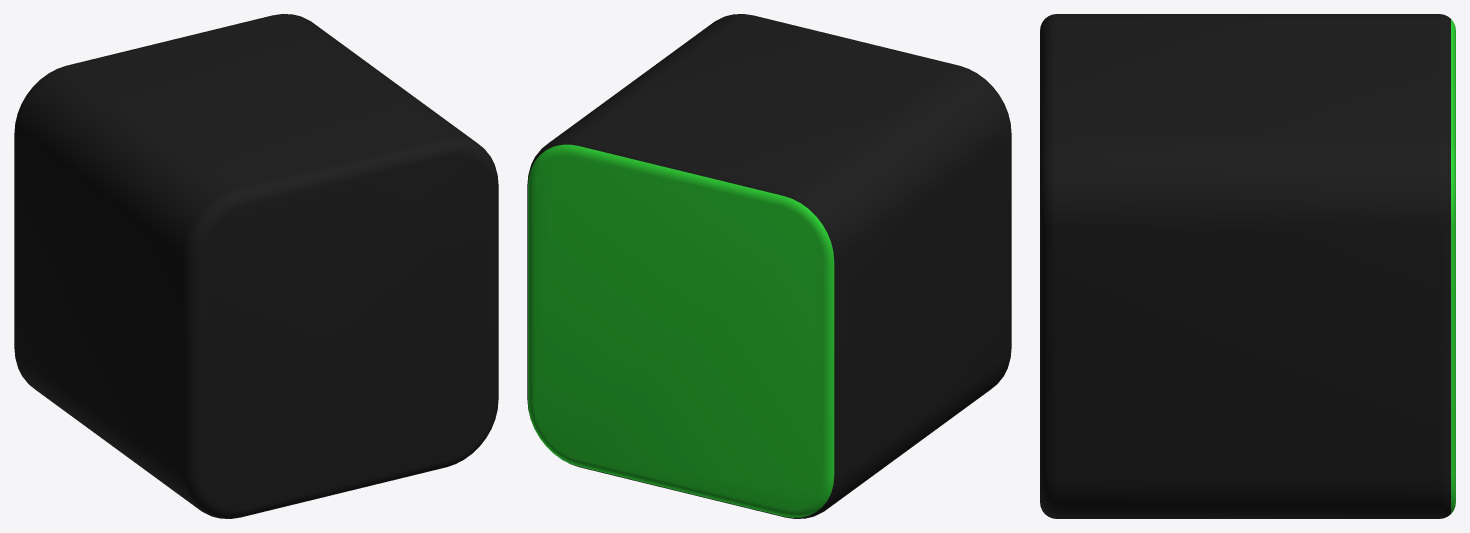
The model's file is g_center.glb.
The picture shows the model from 3 angles, left to right: view 1: azimuth 30°, elevation 25°; view 2: azimuth 150°, elevation 25°; view 3: azimuth 270°, elevation 25°; orthographic projection. The views are drawn at different scales.
Visible parts, largest first — view 1: Cube.012; view 2: Cube.012; view 3: Cube.012.
Part boxes in pixels (<box>): Cube.012: <box>14,14,498,518</box>; Cube.012: <box>527,14,1011,518</box>; Cube.012: <box>1040,14,1455,518</box>.
Size of the model in its own units: 2 by 2 by 2.
